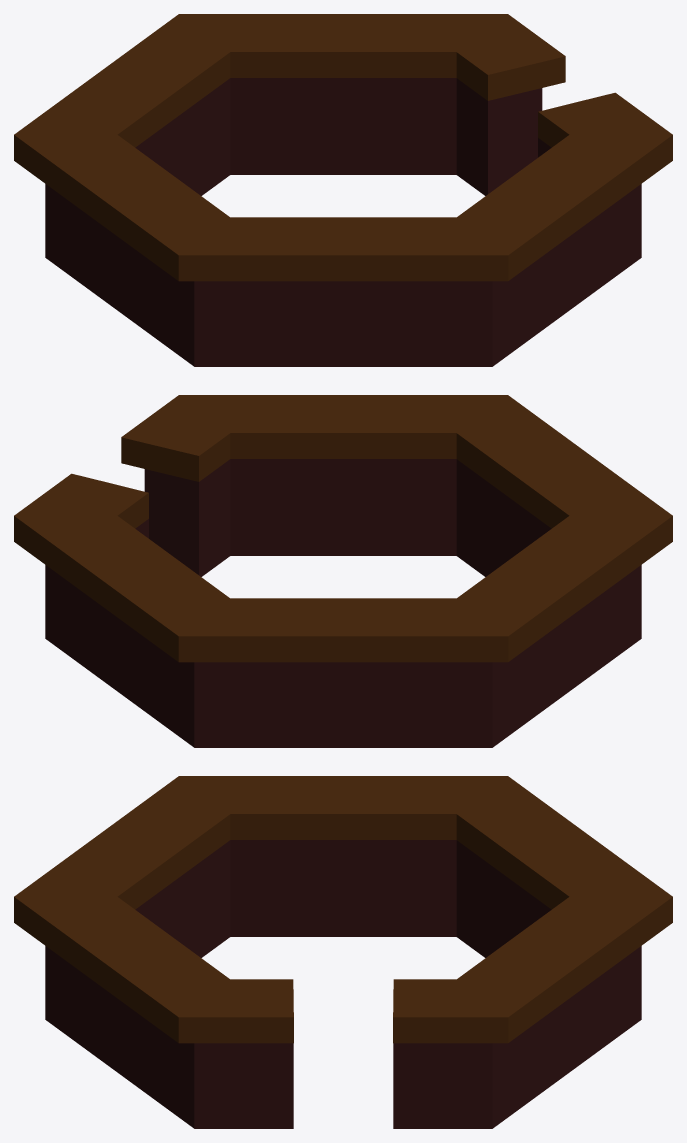
The model's file is CircleBar.fbx.
The picture shows the model from 3 angles, top to bottom: view 1: azimuth 30°, elevation 25°; view 2: azimuth 150°, elevation 25°; view 3: azimuth 270°, elevation 25°; orthographic projection.
Parts seen in each view (by area): view 1: CircleBar; view 2: CircleBar; view 3: CircleBar.
Boxes of the visible parts, left/top/right/bottom form: CircleBar: left=14, top=14, right=672, bottom=366; CircleBar: left=14, top=395, right=672, bottom=747; CircleBar: left=14, top=776, right=672, bottom=1128.
Size of the model in its own units: 4295 by 1021 by 4959.
